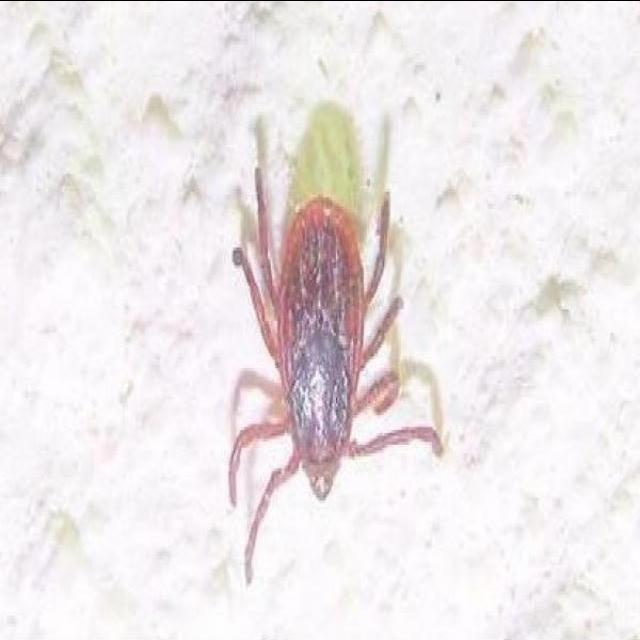Rhipicephalus Sanguineus-F: (229, 156, 445, 518)
